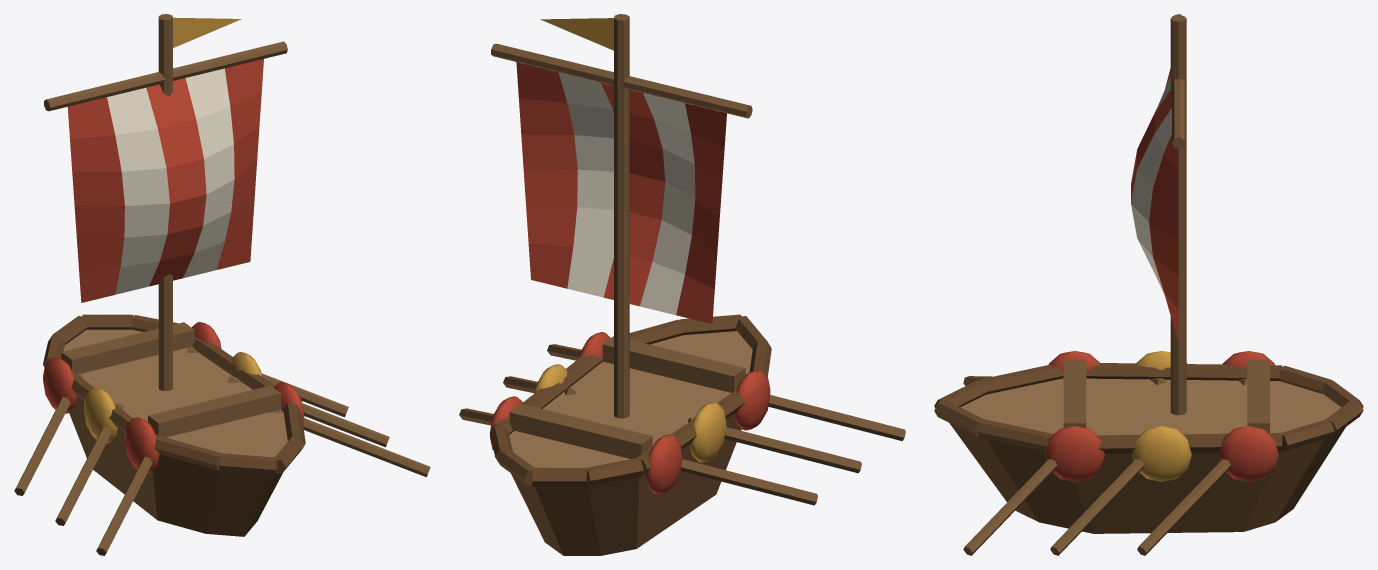
Rendered from barbarian-boat.glb.
3 views of the same model, side by side, from view 1: azimuth 30°, elevation 25°; view 2: azimuth 150°, elevation 25°; view 3: azimuth 270°, elevation 25° (orthographic). The views are drawn at different scales.
Parts seen in each view (by area): view 1: barbarian-boat.005, barbarian-boat.004, barbarian-boat.006, barbarian-boat.002, barbarian-boat.003, barbarian-boat, barbarian-boat.001, barbarian-boat.007; view 2: barbarian-boat.005, barbarian-boat.004, barbarian-boat.006, barbarian-boat.002, barbarian-boat.003, barbarian-boat, barbarian-boat.001, barbarian-boat.007; view 3: barbarian-boat.002, barbarian-boat.004, barbarian-boat.001, barbarian-boat.003, barbarian-boat.005, barbarian-boat, barbarian-boat.007, barbarian-boat.006.
Part boxes in pixels (left/top/right/bottom): barbarian-boat.005: left=43, top=59, right=304, bottom=473; barbarian-boat.004: left=14, top=14, right=430, bottom=555; barbarian-boat.006: left=107, top=68, right=234, bottom=294; barbarian-boat.002: left=63, top=329, right=287, bottom=457; barbarian-boat.003: left=43, top=314, right=305, bottom=475; barbarian-boat: left=69, top=396, right=274, bottom=536; barbarian-boat.001: left=152, top=454, right=282, bottom=535; barbarian-boat.007: left=84, top=17, right=261, bottom=443; barbarian-boat.005: left=490, top=62, right=770, bottom=494; barbarian-boat.004: left=459, top=14, right=905, bottom=505; barbarian-boat.006: left=558, top=72, right=695, bottom=315; barbarian-boat.002: left=509, top=331, right=752, bottom=467; barbarian-boat.003: left=489, top=314, right=771, bottom=486; barbarian-boat: left=535, top=414, right=741, bottom=555; barbarian-boat.001: left=511, top=473, right=639, bottom=555; barbarian-boat.007: left=535, top=18, right=726, bottom=462; barbarian-boat.002: left=960, top=378, right=1341, bottom=435; barbarian-boat.004: left=963, top=14, right=1269, bottom=555; barbarian-boat.001: left=949, top=423, right=1345, bottom=533; barbarian-boat.003: left=934, top=363, right=1363, bottom=453; barbarian-boat.005: left=1045, top=68, right=1278, bottom=481; barbarian-boat: left=986, top=439, right=1324, bottom=533; barbarian-boat.007: left=1132, top=351, right=1191, bottom=481; barbarian-boat.006: left=1131, top=77, right=1171, bottom=295.
Bounding box in the file's own units: 0.6112 × 0.81 × 0.6428.
